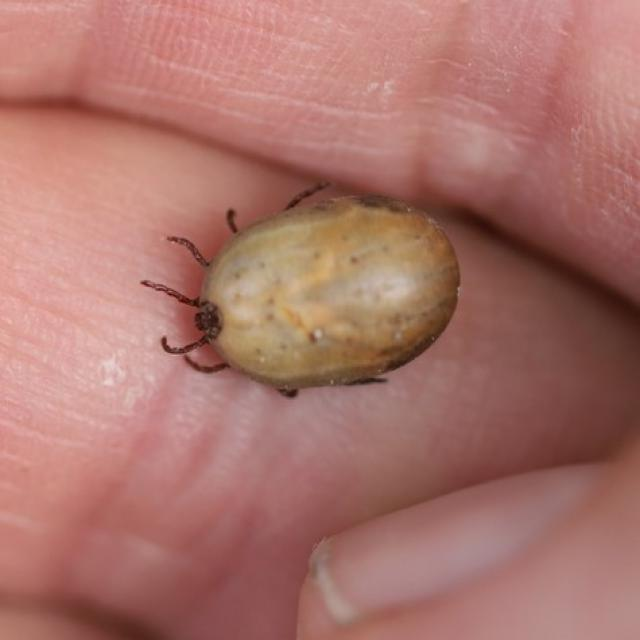Dermacentor Reticulatus-F-Fed: (141, 182, 462, 399)
